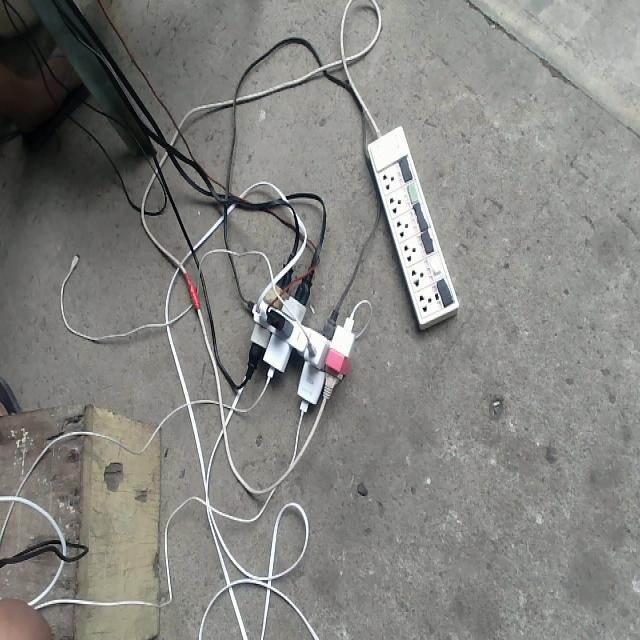-: (245, 255, 356, 414)
